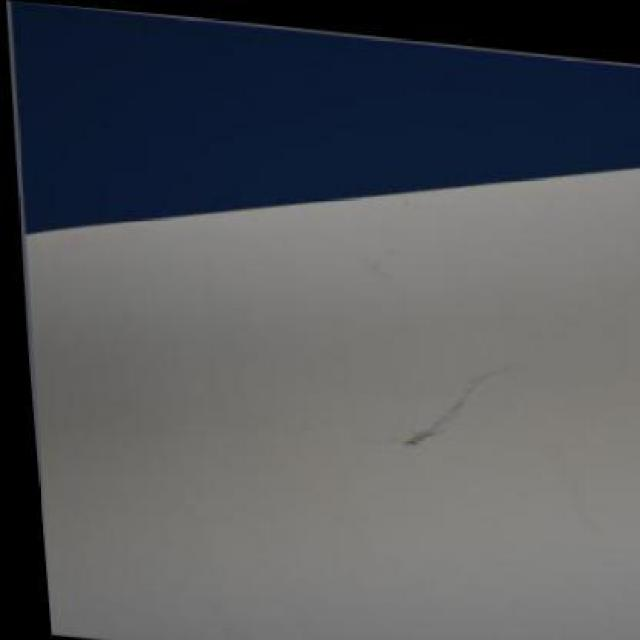Crack: (382, 365, 480, 447)
